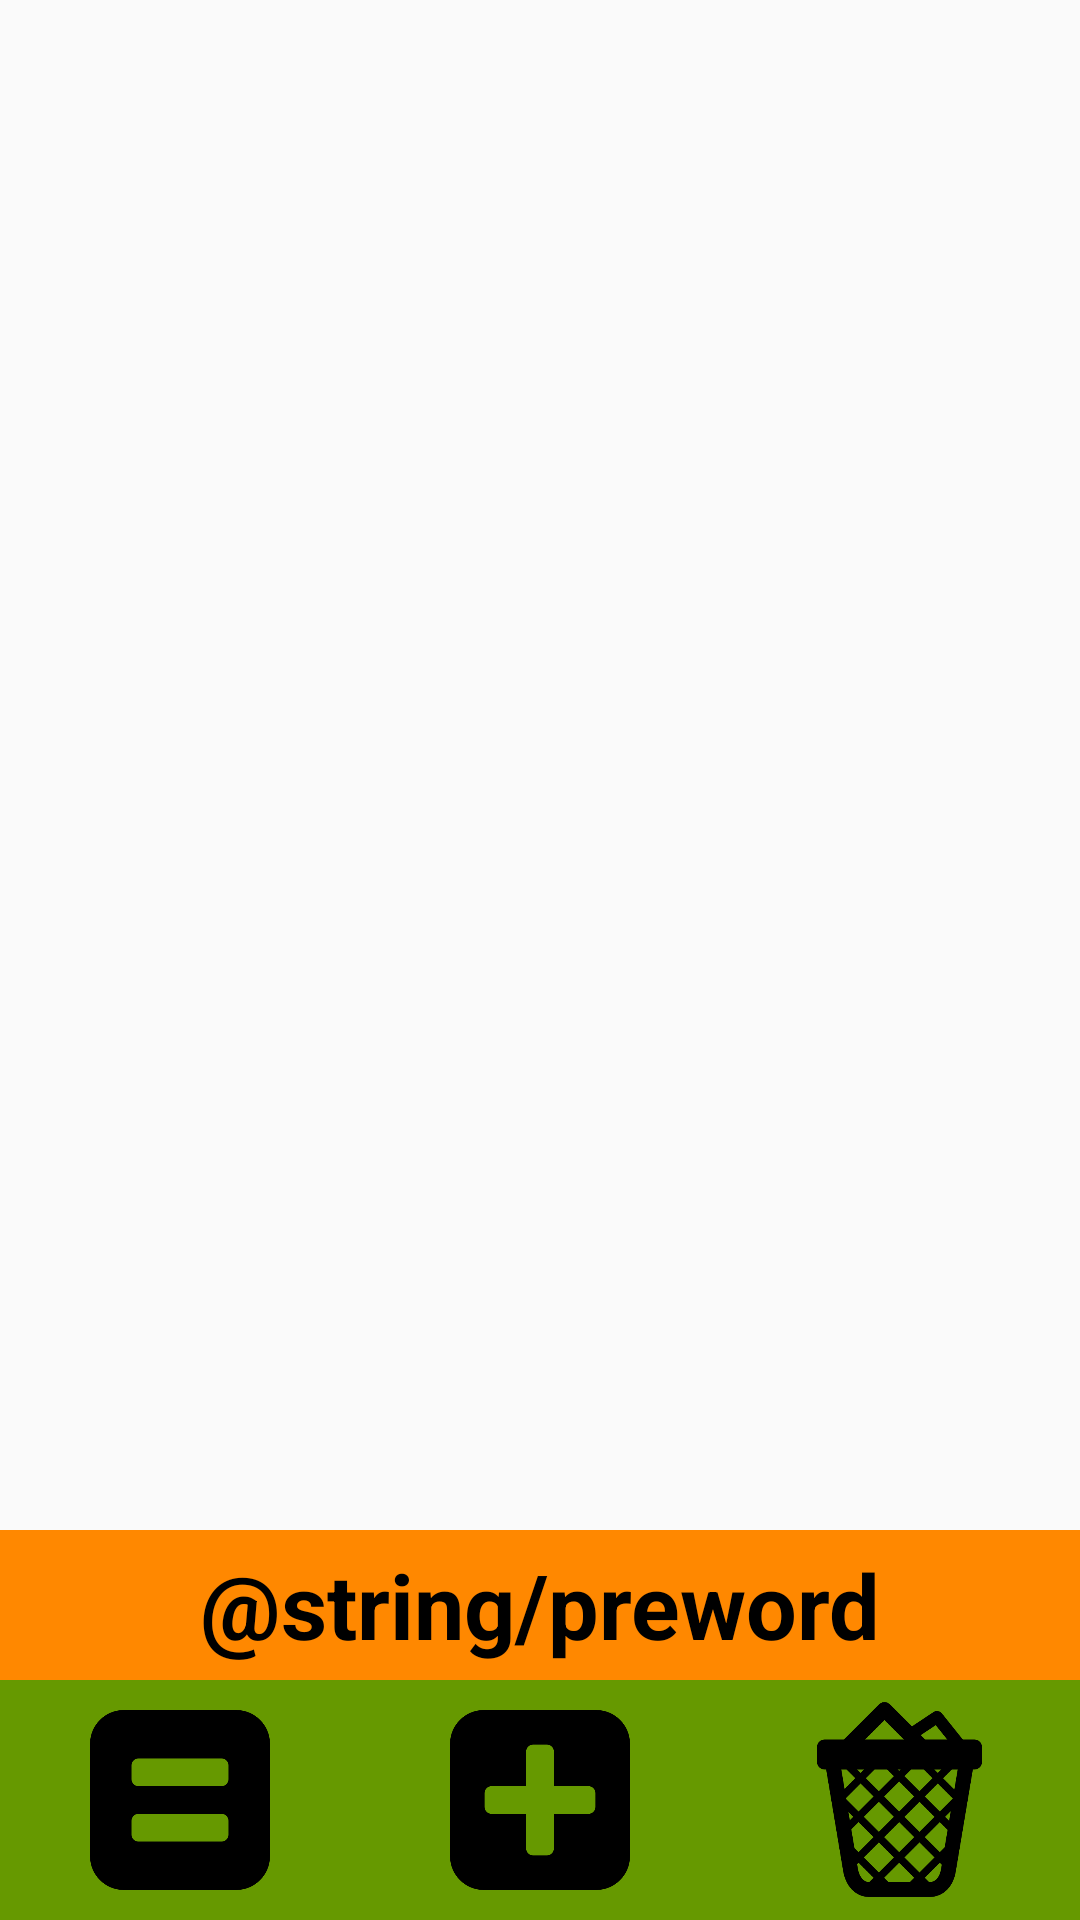

Point at icon controls on the screen. Image size 1080px x 1920px, points as (x,y).
add: (540,1800)
equal: (180,1800)
full trash: (899,1799)
